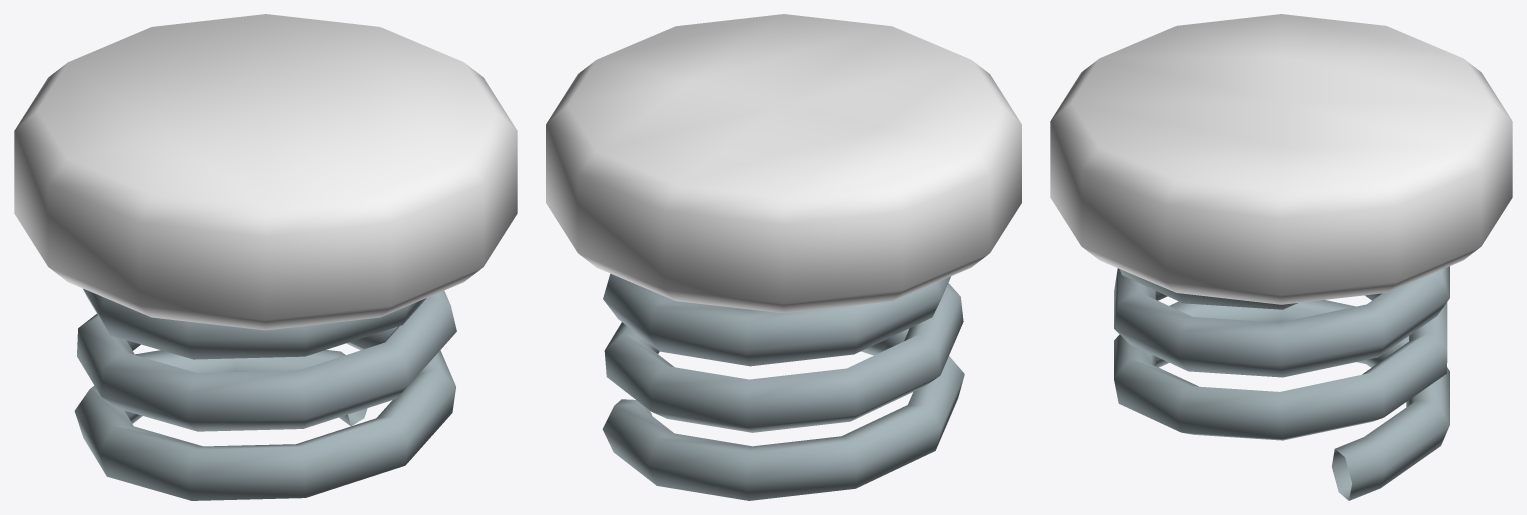
Rendered from platform_kit002.fbx.
3 renders of one model, left to right at view 1: azimuth 30°, elevation 25°; view 2: azimuth 150°, elevation 25°; view 3: azimuth 270°, elevation 25°, orthographic. The views are drawn at different scales.
Parts seen in each view (by area): view 1: platform_kit002; view 2: platform_kit002; view 3: platform_kit002.
Boxes of the visible parts, box(x1,y1,x2,y2) form: platform_kit002: box(14, 14, 517, 500); platform_kit002: box(546, 14, 1021, 500); platform_kit002: box(1050, 14, 1512, 500).
Bounding box in the file's own units: 150 × 121 × 150.
2 materials, 1 textured.
